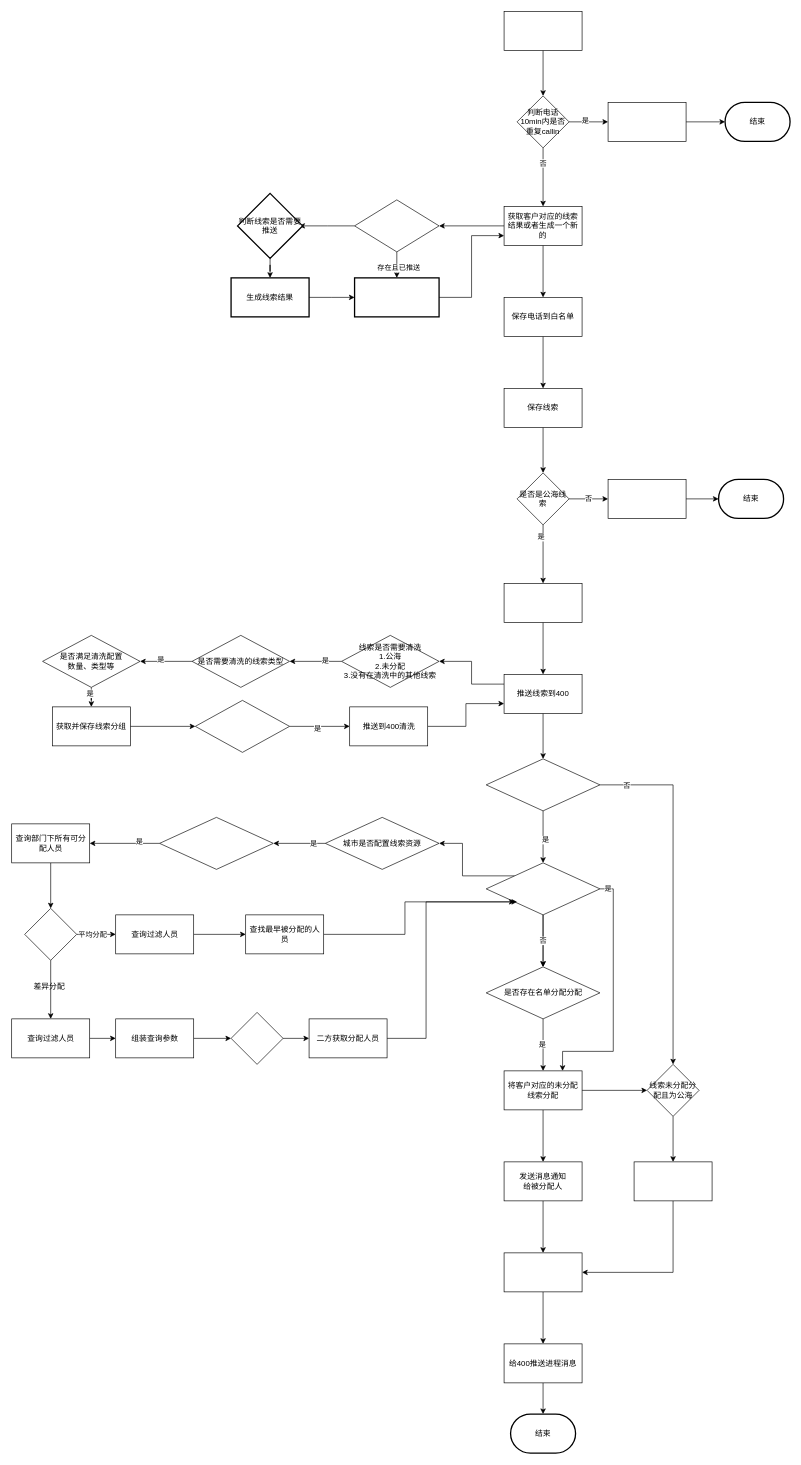
Image size: 801x1465. Some labels were removed from this diagram. The centre of each missing label's shape, as x and y in pixels:
"保存或者跟新线索" belongs at (x=396, y=297).
"参数是否正确" belongs at (x=256, y=1038).
"发送信息给400" belongs at (x=646, y=121).
"处理fabio业务" belongs at (x=542, y=1272).
"是否存在差异分配" belongs at (x=543, y=888).
"是否是需要推送的线索分组和分数" belongs at (x=242, y=726).
"相当于直接结束" belongs at (x=646, y=498).
"线索是否分配 （公海不清洗分配， 公海已经存在一个清洗，又出现一个高分需要先分配 ）" belongs at (x=543, y=784).
"给运营发送消息" belongs at (x=672, y=1181).
"自动分配方式" belongs at (x=50, y=934).
"获取基本信息 （客户、boss）" belongs at (x=542, y=30).
"获取未分配或者为处理的线索结果" belongs at (x=396, y=225).
"获取线索分数" belongs at (x=542, y=602).
"部门是否设置了自动动分配" belongs at (x=216, y=843).
